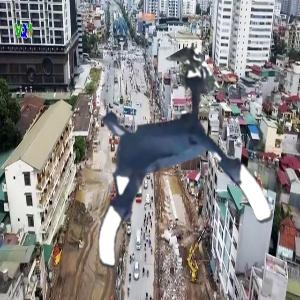drone: (63, 78, 258, 273)
